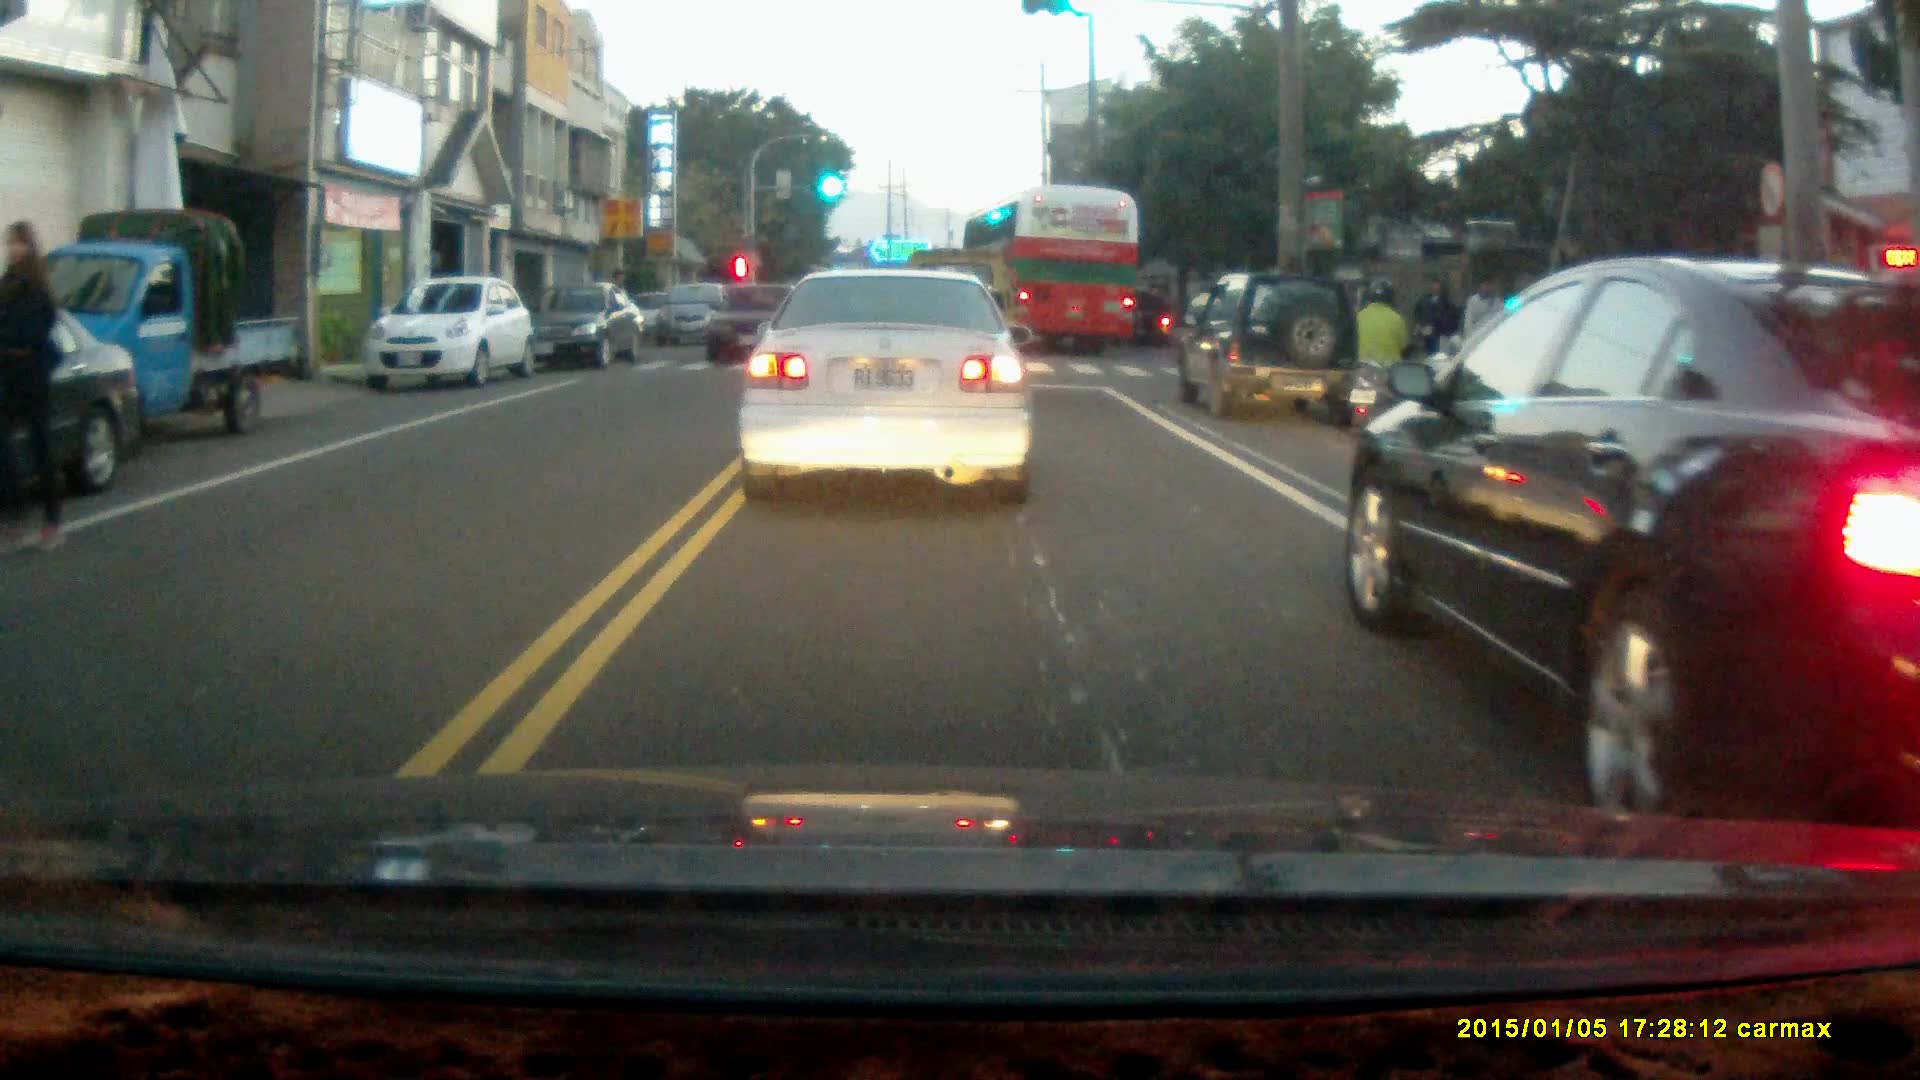pedestrian: (0, 220, 69, 553), (1460, 274, 1509, 386), (1411, 274, 1455, 392)
rider: (1343, 282, 1412, 440), (1115, 292, 1174, 348)
vehicle: (1349, 256, 1920, 834), (731, 267, 1034, 509), (13, 209, 289, 443), (1, 286, 149, 515), (963, 188, 1144, 357), (1176, 275, 1368, 429), (365, 281, 528, 394), (534, 283, 651, 372), (651, 286, 738, 357)
